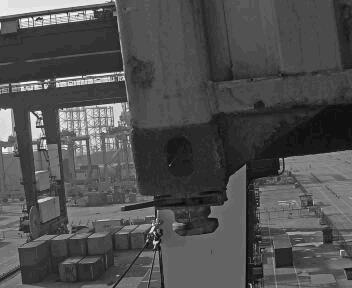twist_lock_1: (152, 186, 243, 240)
